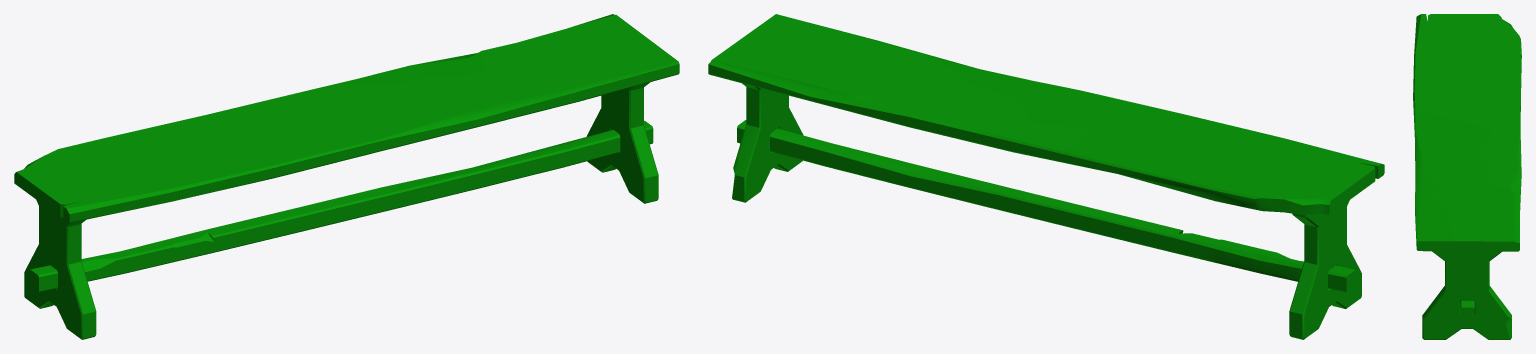
The model's file is SM_Tool.fbx.
The picture shows the model from 3 angles, left to right: view 1: azimuth 30°, elevation 25°; view 2: azimuth 150°, elevation 25°; view 3: azimuth 270°, elevation 25°; orthographic projection. The views are drawn at different scales.
Visible parts, largest first — view 1: SM_Tool; view 2: SM_Tool; view 3: SM_Tool.
Part boxes in pixels (x1,y1,x2,y2): SM_Tool: (14, 14, 679, 339); SM_Tool: (708, 14, 1384, 339); SM_Tool: (1413, 14, 1521, 339).
Size of the model in its own units: 210 by 42.31 by 45.2.
